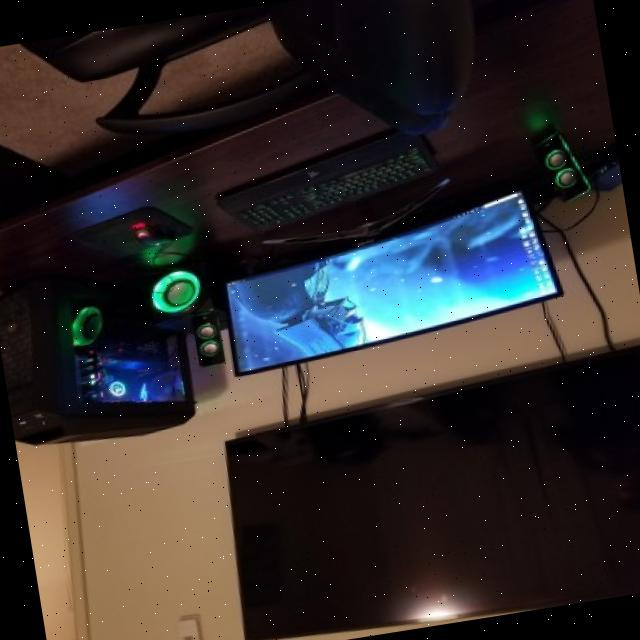Computer: (0, 244, 210, 460)
Monitor: (205, 184, 580, 386)
